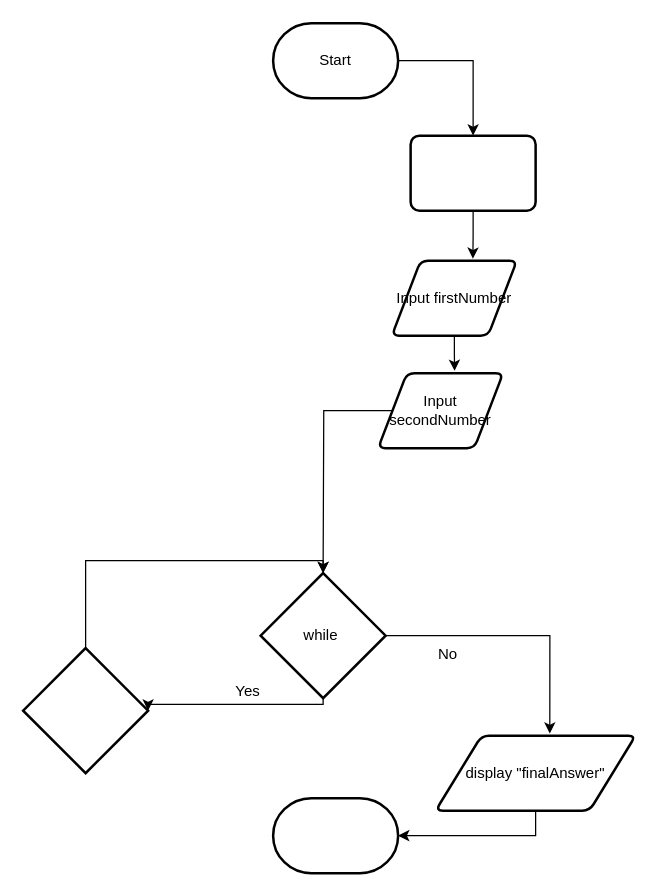
The diagram is 658 pixels wide and 895 high, and some of its shapes have lost their labels. The centre of each missing label's shape, as x and y in pixels:
counter = 0: the point at 472,172
if: the point at 85,710
Stop: the point at 335,835
